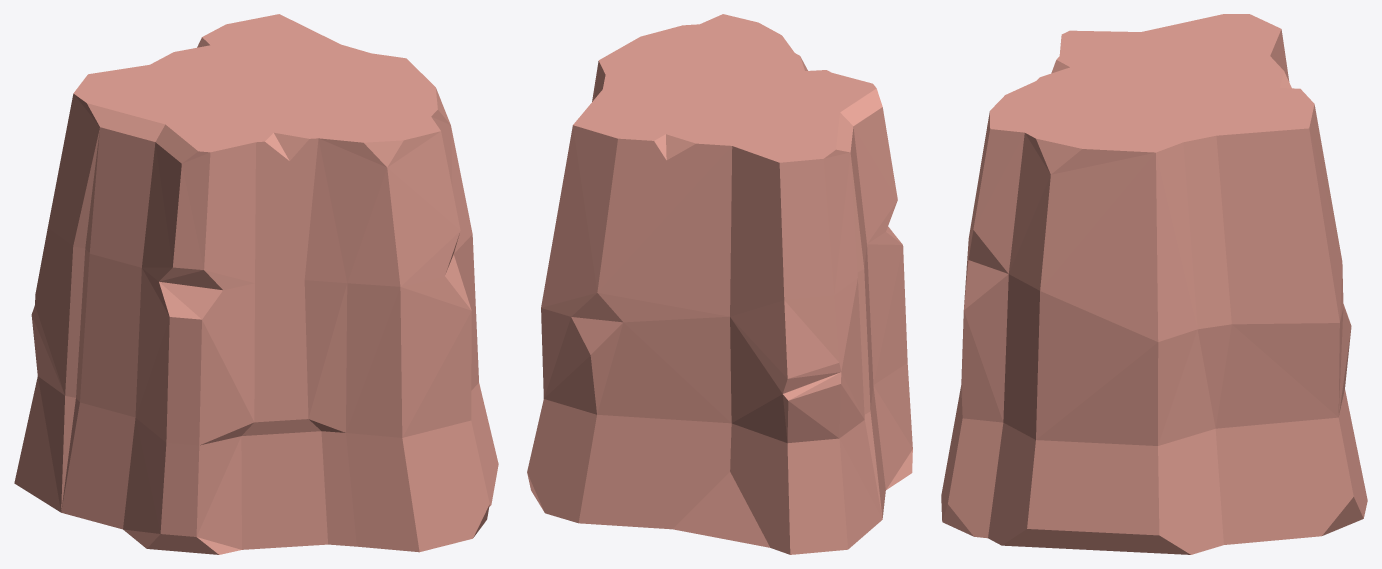
The model's file is Plane_013_Vlad.fbx.
3 renders of one model, left to right at view 1: azimuth 30°, elevation 25°; view 2: azimuth 150°, elevation 25°; view 3: azimuth 270°, elevation 25°, orthographic. The views are drawn at different scales.
Parts seen in each view (by area): view 1: Plane.013; view 2: Plane.013; view 3: Plane.013.
Part boxes in pixels (x1,y1,x2,y2): Plane.013: (14,14,498,554); Plane.013: (527,14,912,554); Plane.013: (941,14,1367,554).
Size of the model in its own units: 690 by 700 by 695.
